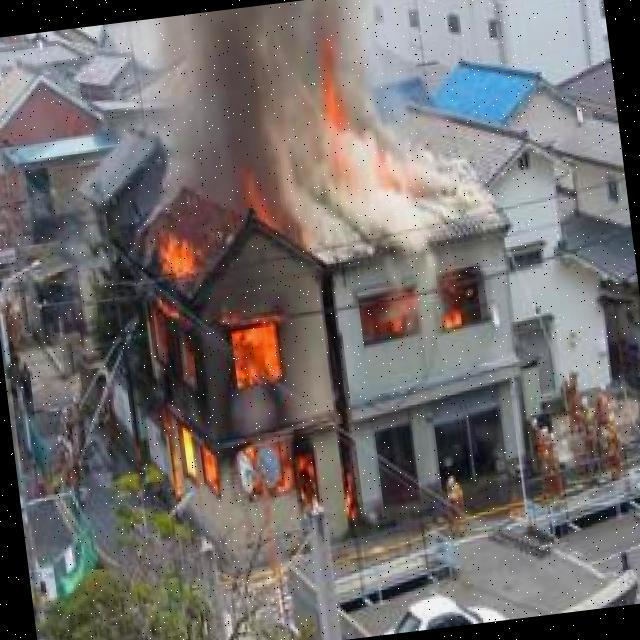Fire: (131, 211, 314, 523), (357, 280, 492, 343), (319, 52, 352, 134)
